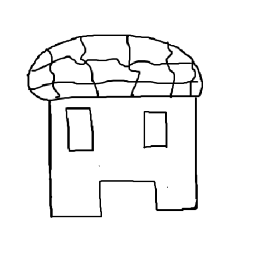door: (93, 173, 163, 218)
open_window: (65, 107, 94, 152), (144, 110, 167, 148)
roof: (26, 34, 208, 103)
wall: (44, 91, 202, 222)
